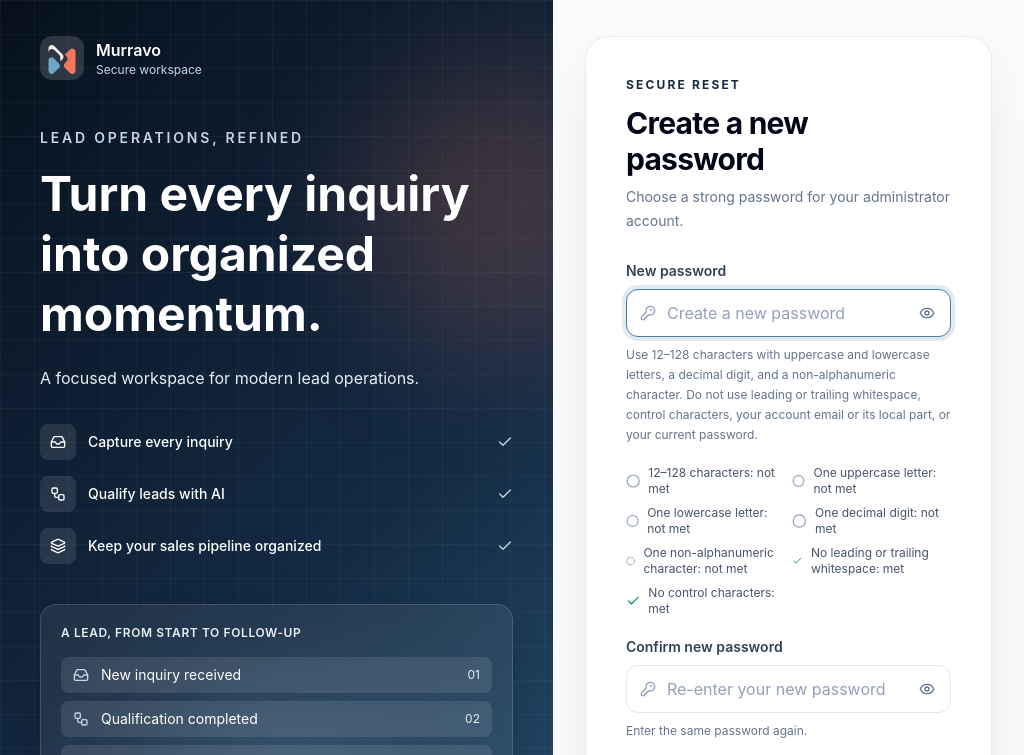
reset password token lifecycle › validates mismatch and password visibility without making a request
The image size is (1024, 755).
Click the button named "Show new password".
click(927, 313)  # box top-left (907, 293), bottom-right (947, 333)
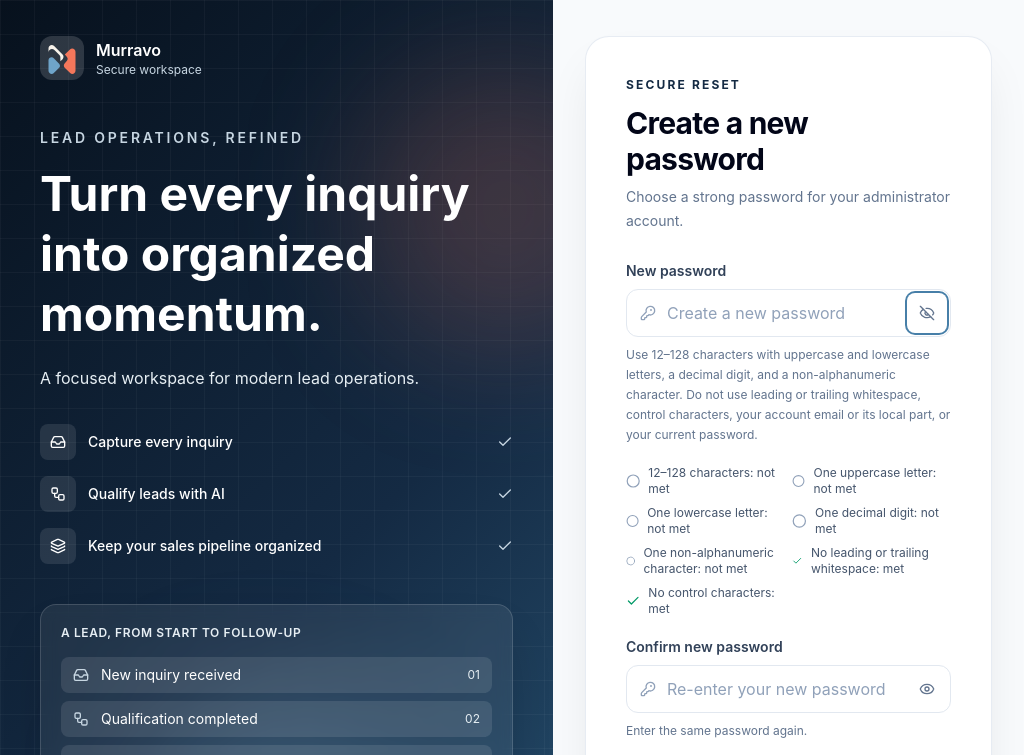
Type "New-password-42!" into the field labelled "New password".
click(788, 313); type("New-password-42!")  # box top-left (626, 289), bottom-right (951, 337)
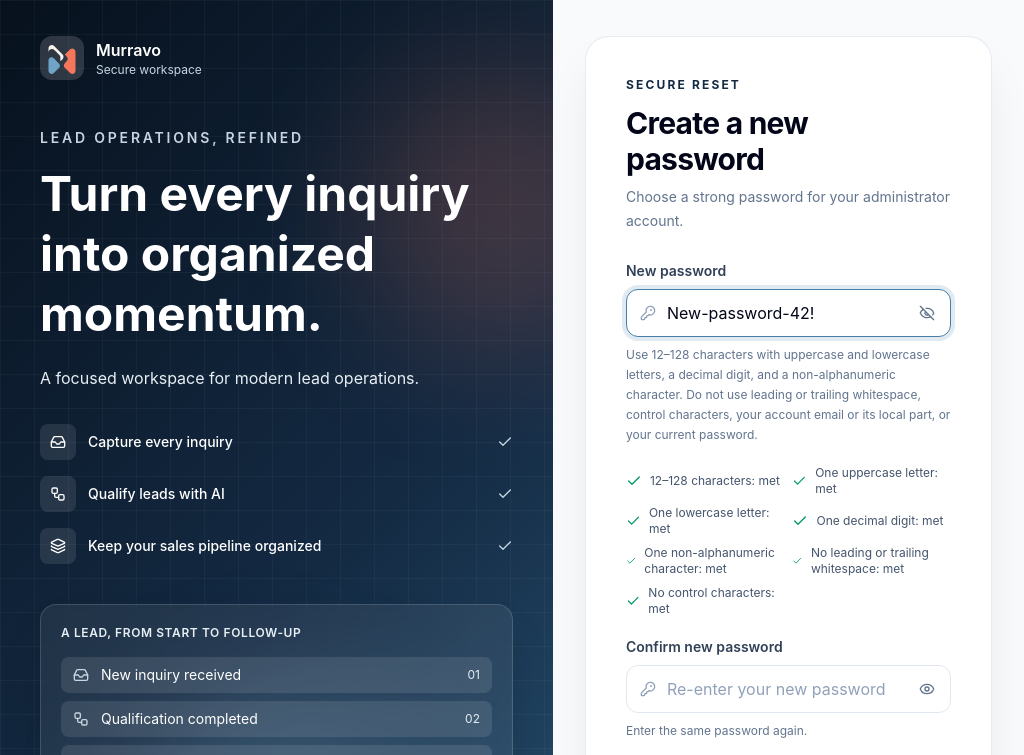
Type "Different-password-42!" into the password field labelled "Confirm new password".
click(788, 689); type("Different-password-42!")  # box top-left (626, 665), bottom-right (951, 713)
(page scrolled)
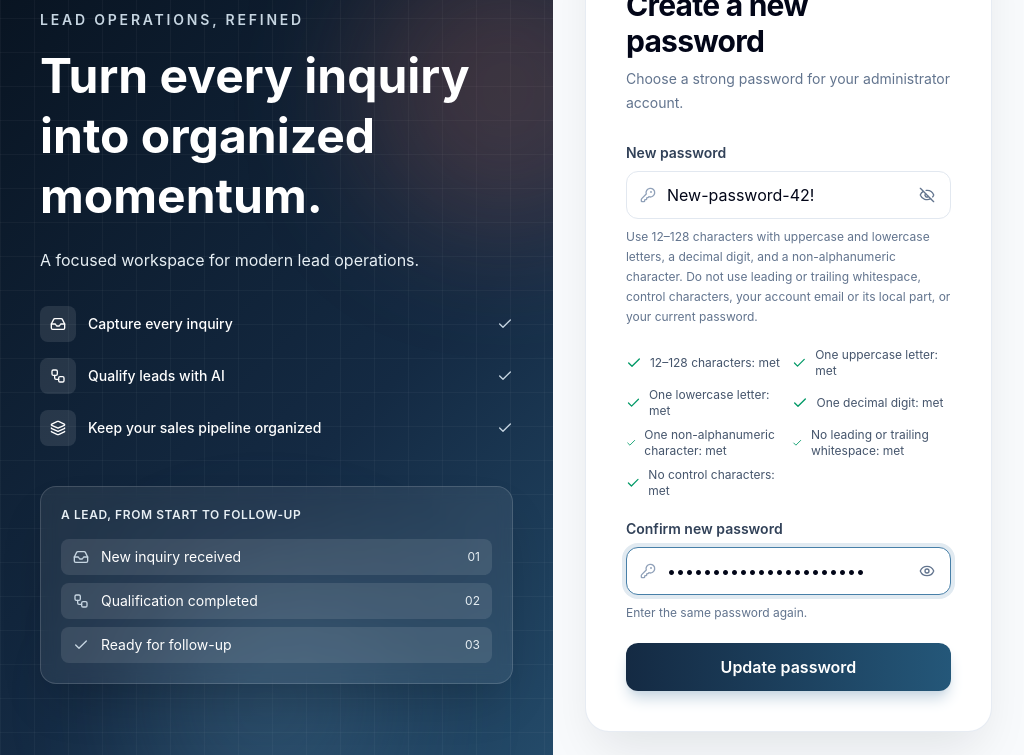
Click the button "Update password".
click(788, 667)  # box top-left (626, 643), bottom-right (951, 691)
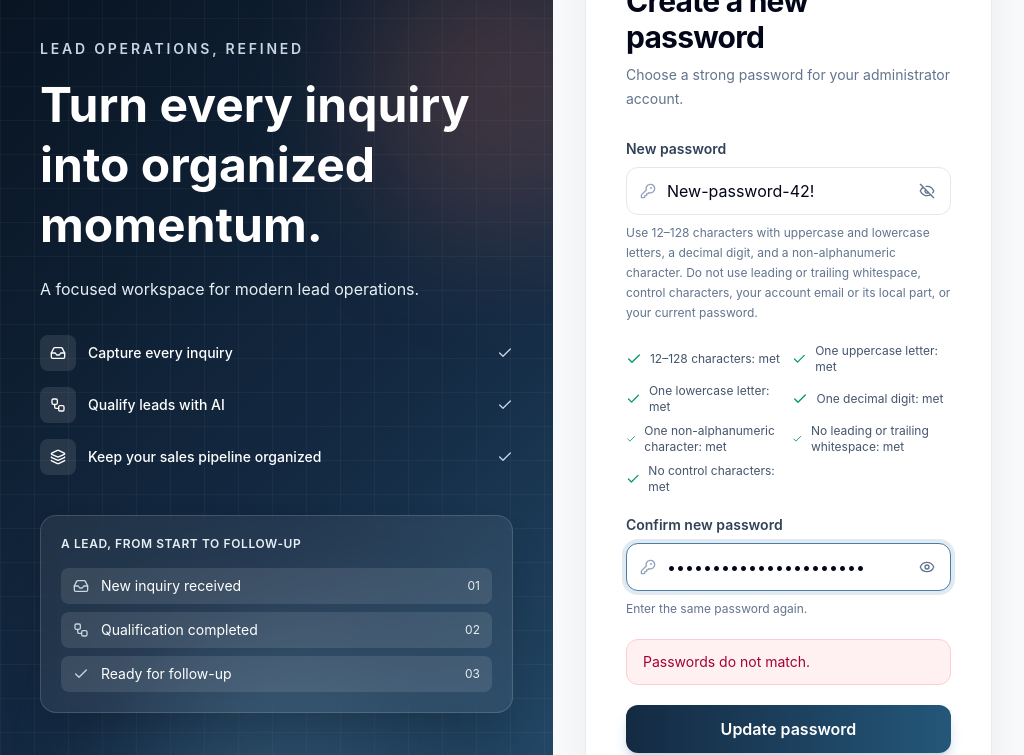
Now the message reads "Passwords do not match.", box top-left (643, 653), bottom-right (810, 670)
